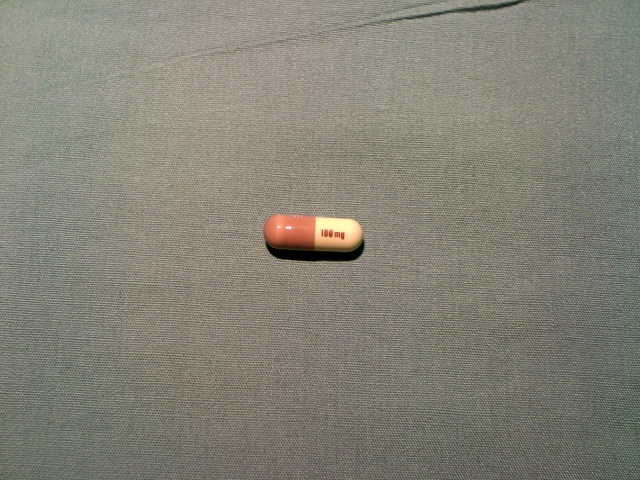capsule: (262, 213, 363, 257)
